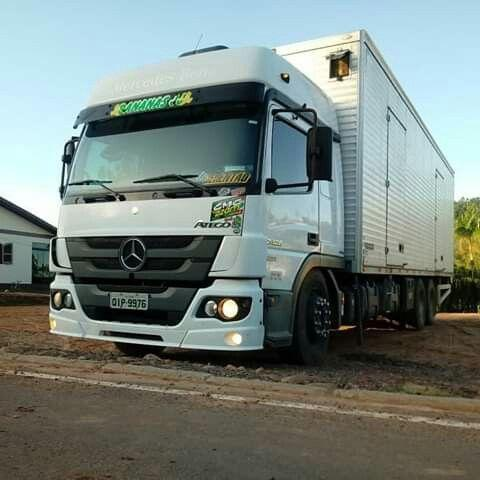placa de veiculo: (105, 288, 153, 322)
